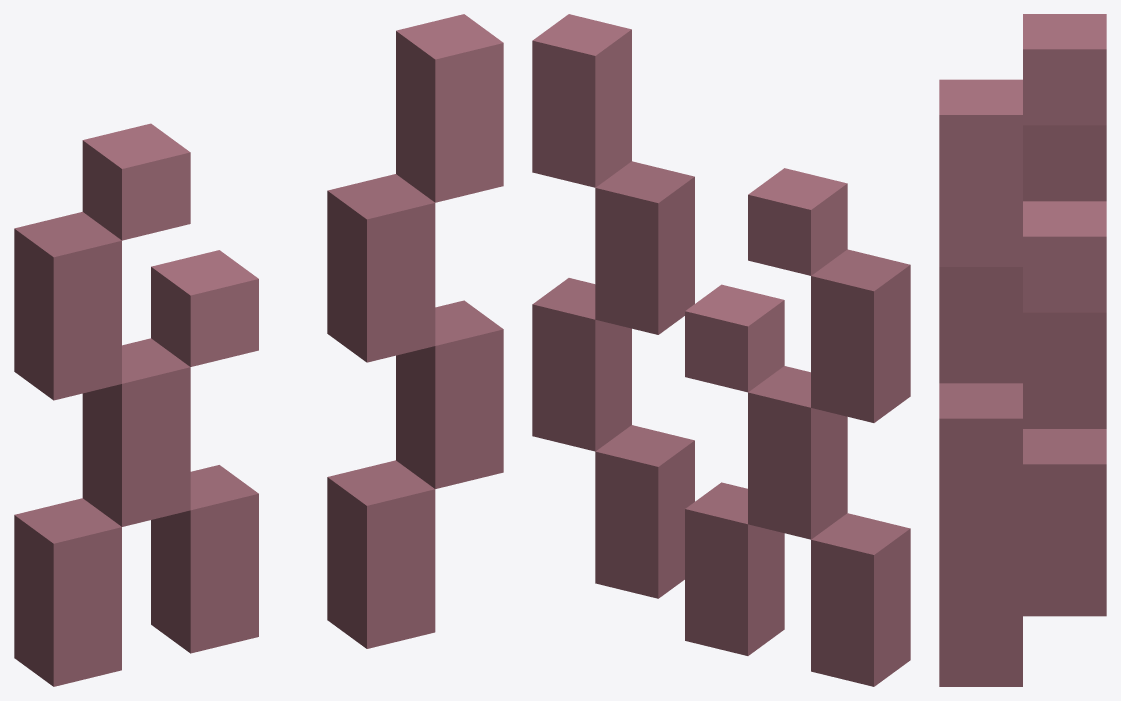
The model's file is alga_roja_05.glb.
3 views of the same model, side by side, from view 1: azimuth 30°, elevation 25°; view 2: azimuth 150°, elevation 25°; view 3: azimuth 270°, elevation 25° (orthographic). The views are drawn at different scales.
Visible parts, largest first — view 1: alga_roja_05; view 2: alga_roja_05; view 3: alga_roja_05.
Part boxes in pixels (x1=…): alga_roja_05: x1=14, y1=14, x2=503, y2=686; alga_roja_05: x1=532, y1=14, x2=910, y2=686; alga_roja_05: x1=939, y1=14, x2=1106, y2=686.
Size of the model in its own units: 0.6 by 0.8 by 0.2.
